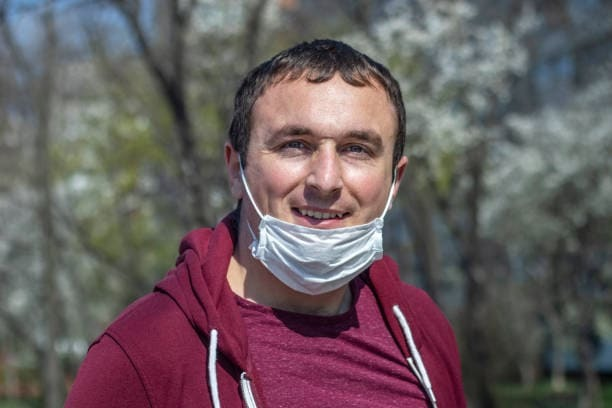with_incorrect_mask: (240, 87, 393, 284)
